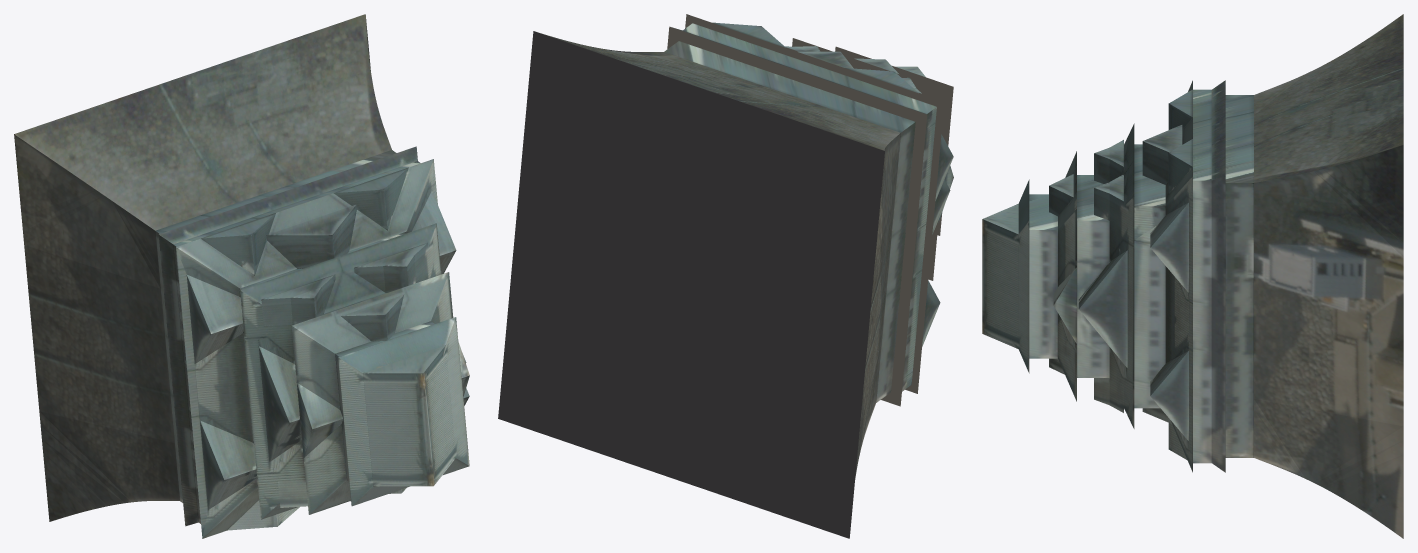
The model's file is 52366721_bldg_6697_op.gml.fbx.
3 renders of one model, left to right at view 1: azimuth 30°, elevation 25°; view 2: azimuth 150°, elevation 25°; view 3: azimuth 270°, elevation 25°, orthographic. The views are drawn at different scales.
Visible parts, largest first — view 1: bldg_7d221b71-07b5-450e-b6fe-e1c65c318829; view 2: bldg_7d221b71-07b5-450e-b6fe-e1c65c318829; view 3: bldg_7d221b71-07b5-450e-b6fe-e1c65c318829.
Part boxes in pixels (left/top/right/bottom): bldg_7d221b71-07b5-450e-b6fe-e1c65c318829: left=14, top=14, right=469, bottom=538; bldg_7d221b71-07b5-450e-b6fe-e1c65c318829: left=498, top=14, right=953, bottom=538; bldg_7d221b71-07b5-450e-b6fe-e1c65c318829: left=982, top=14, right=1403, bottom=538.
Bounding box in the file's own units: 56.76 × 56.12 × 60.38.
2 materials, 2 textured.
